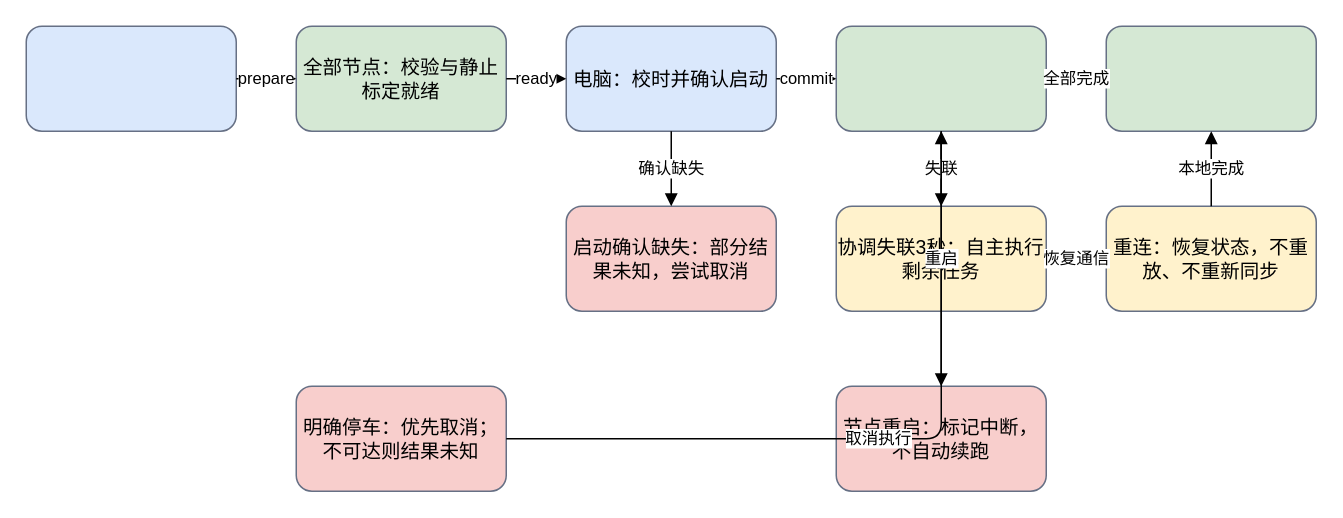
Image size: 1343x518. Some labels were removed from this diagram. Here are the shapes that lost their labels. From the top down, the box of each, then its label:
(25, 25, 236, 131): 电脑：完整任务预装
(835, 25, 1046, 131): 节点：本地执行；在线步骤同步
(1105, 25, 1316, 131): 底盘停车确认；任务完成
